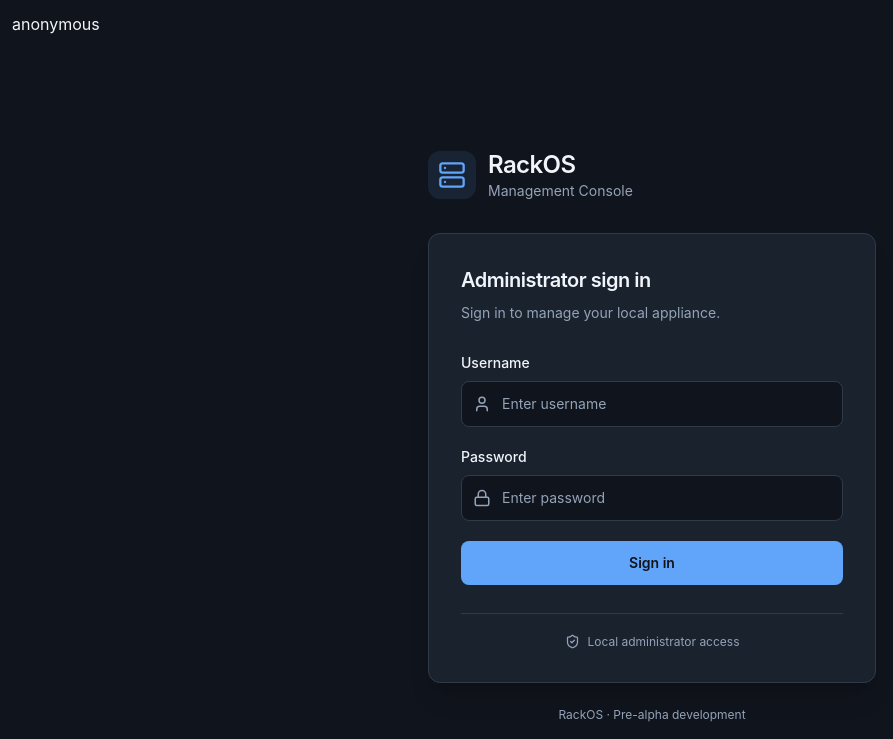
Test: Administrator login page › submits the original credential values
Expected: the heading "Administrator sign in" is shown, x1=461 y1=268 x2=651 y2=292
In the field labelled "Username": point(652, 404) x1=461 y1=381 x2=843 y2=427, type "ADMIN"
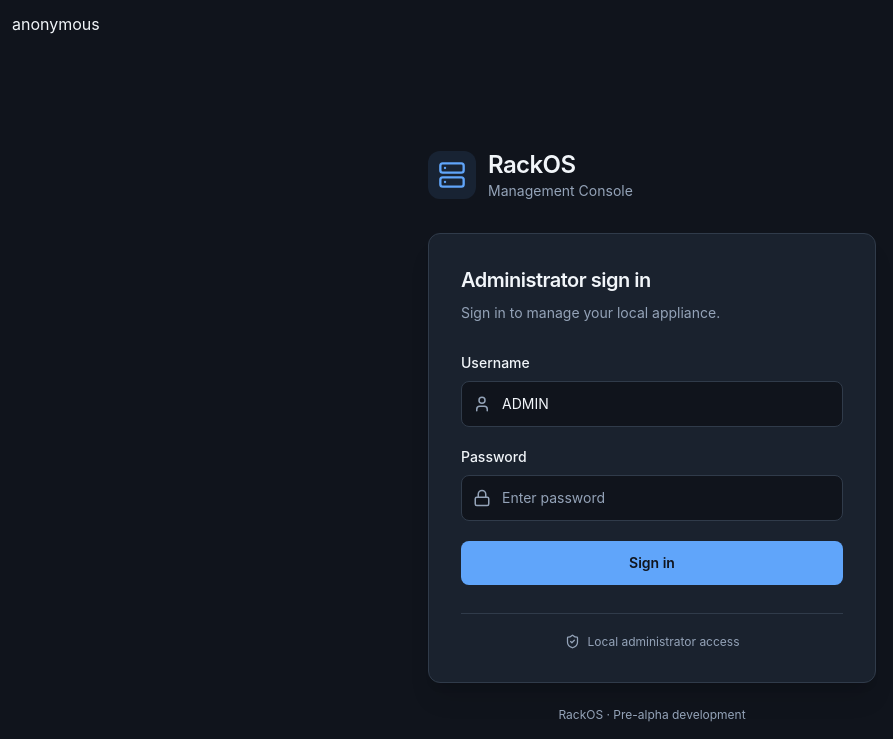
In the password field labelled "Password": point(652, 498) x1=461 y1=475 x2=843 y2=521, type " synthetic-test-password "
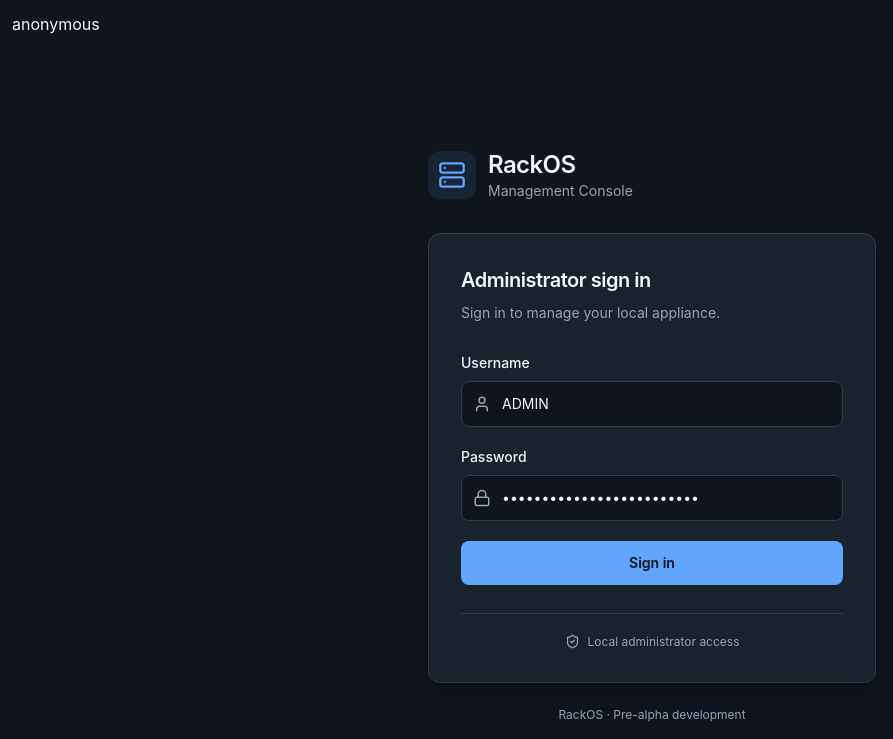
Submit the form named "Administrator sign in", box x1=461 y1=353 x2=843 y2=585
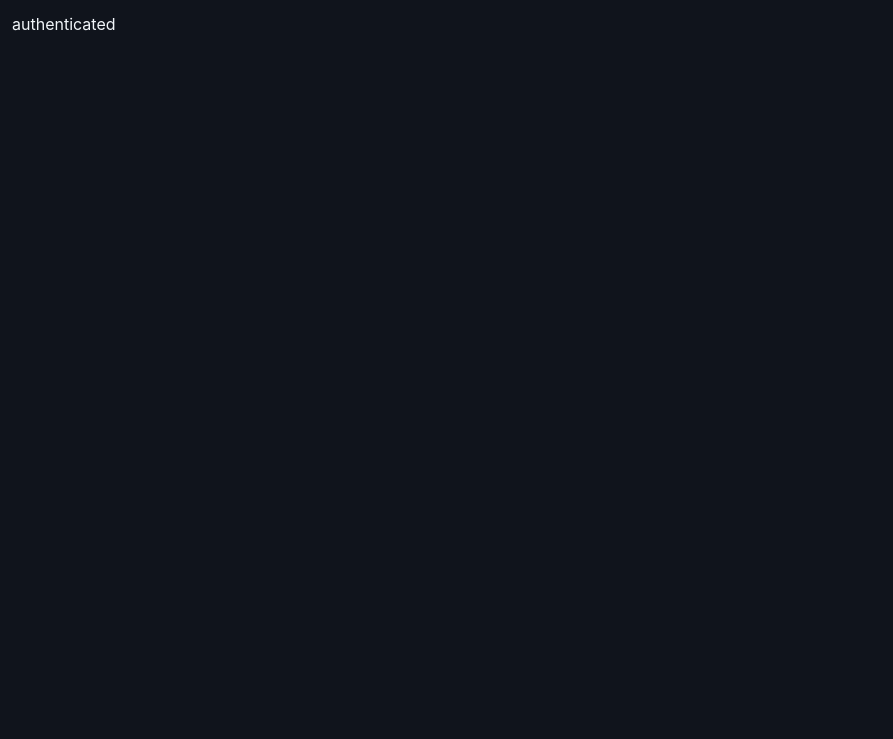
Result: the text with test id "auth-state" reads "authenticated" at x1=12 y1=14 x2=116 y2=34
Result: the label labelled "Password" is gone
